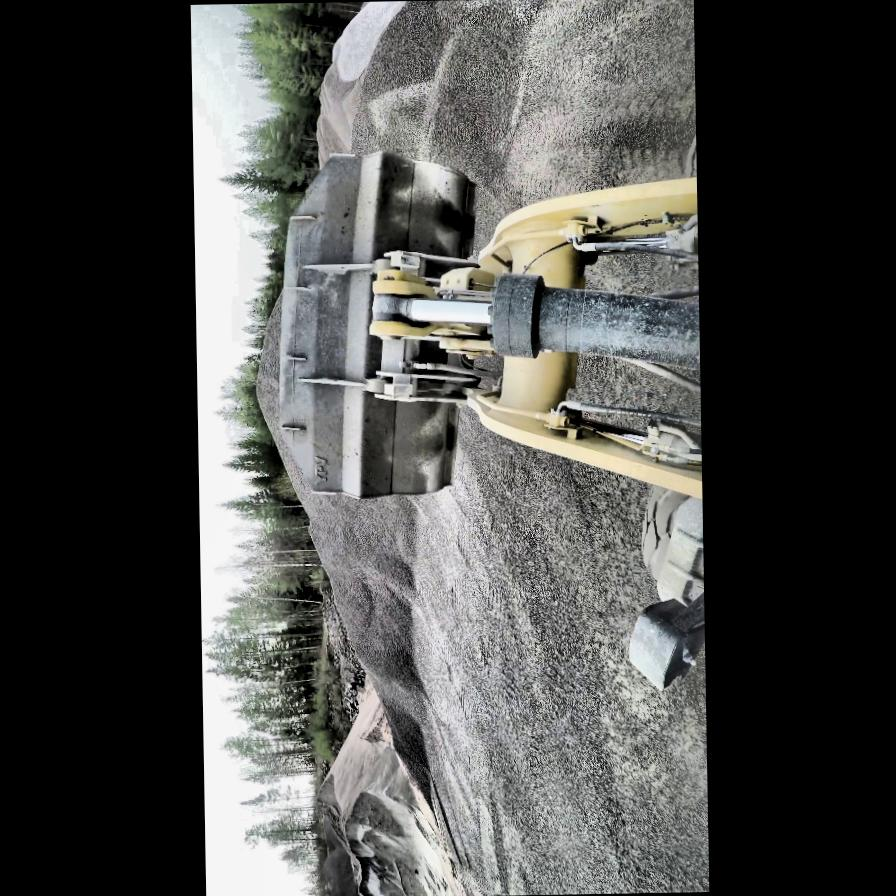anchor: (368, 266, 493, 346)
pile of gravel: (337, 0, 530, 175), (310, 512, 428, 729), (331, 750, 462, 896), (250, 310, 312, 508), (322, 688, 394, 820), (331, 0, 419, 80), (314, 58, 358, 164)
